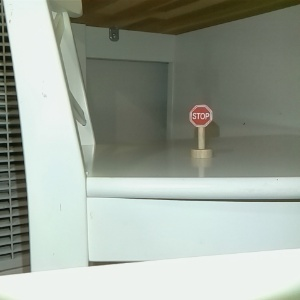stop sign: (188, 103, 213, 162)
